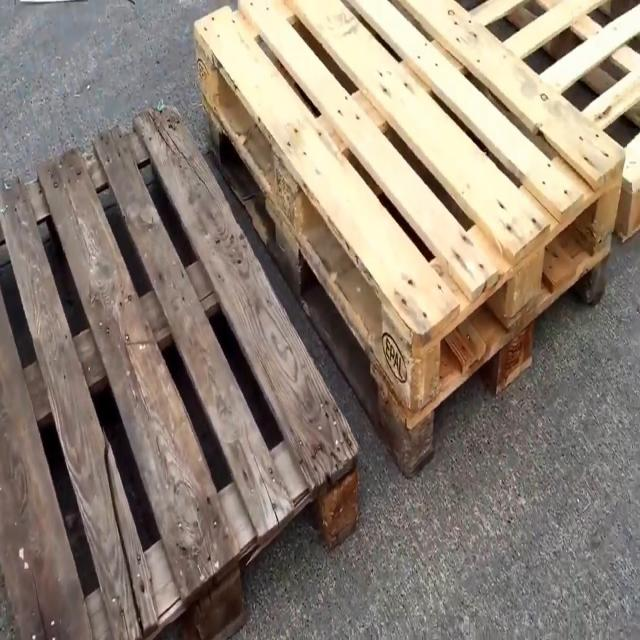Palette: (194, 0, 615, 487), (0, 103, 366, 640), (449, 0, 640, 243)
